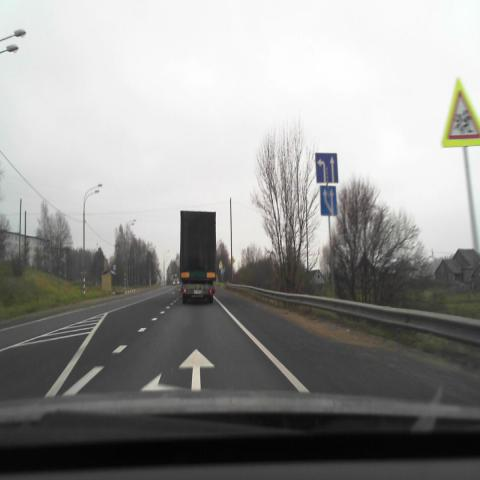1_23: (442, 79, 480, 148)
5_15_3: (320, 185, 338, 215)
